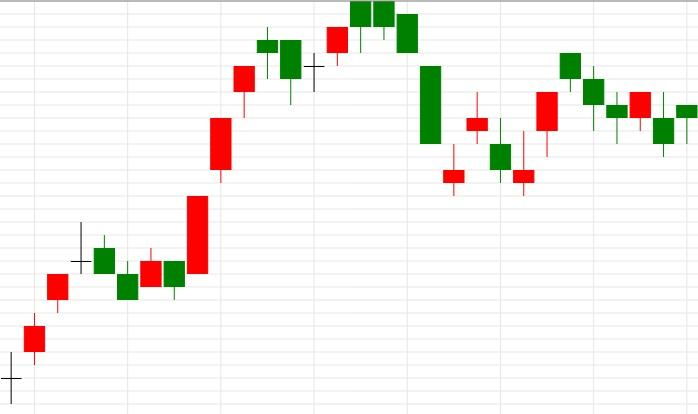three_black_crows_fall: (512, 53, 629, 196)
